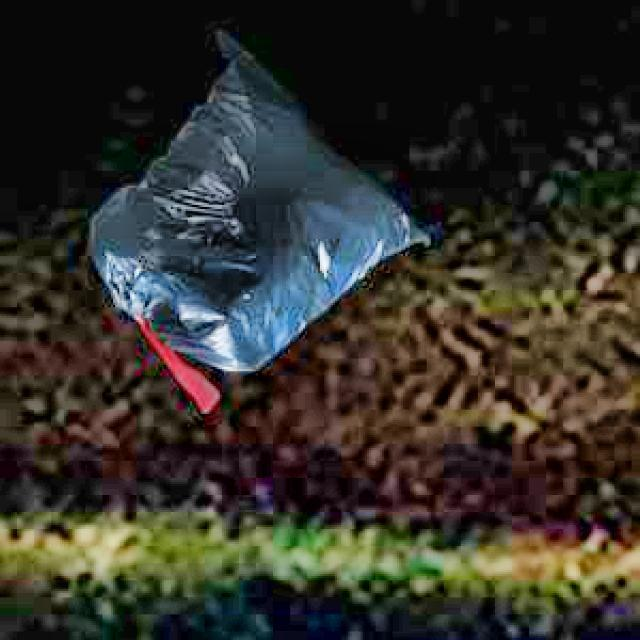Trashbag: (81, 26, 440, 373)
